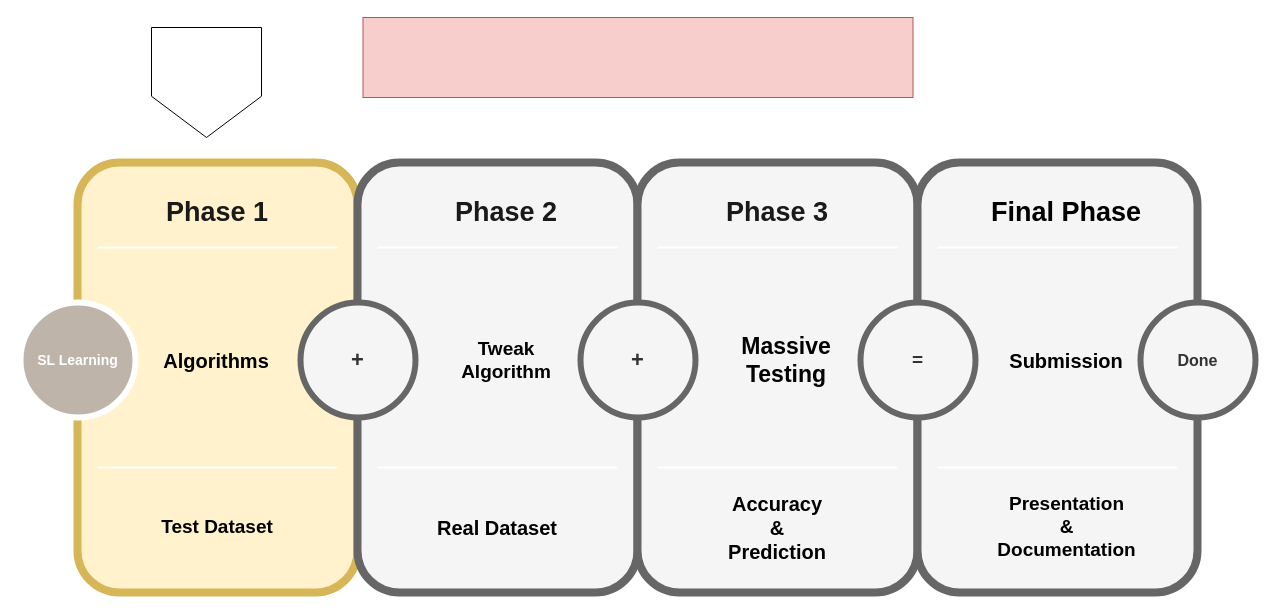
This 1275x614 diagram has some shape labels left out. Here are the shapes that lost their labels. From the top down, the centre of each, then its label:
(x=637, y=57): Machine Learning Phases
(x=206, y=82): Here
